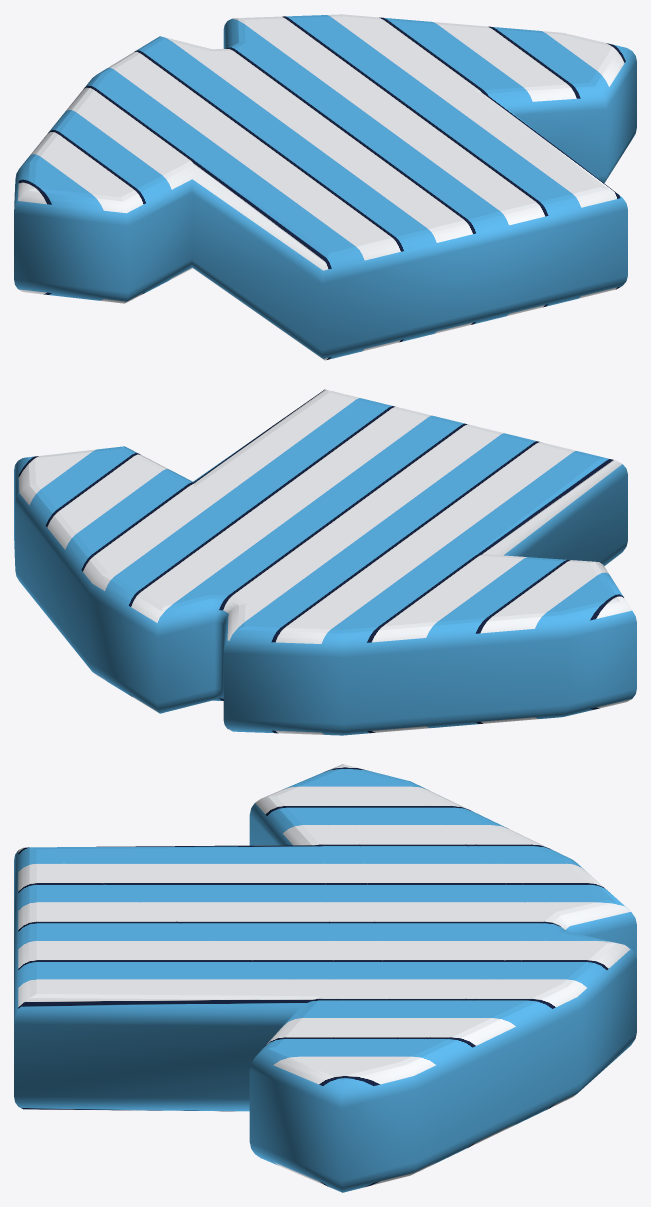
Rendered from camiseta.glb.
3 views of the same model, one above another, from view 1: azimuth 30°, elevation 25°; view 2: azimuth 150°, elevation 25°; view 3: azimuth 270°, elevation 25° (orthographic). The views are drawn at different scales.
Visible parts, largest first — view 1: camiseta; view 2: camiseta; view 3: camiseta.
Part boxes in pixels (<box>): camiseta: <box>14,14,636,360</box>; camiseta: <box>14,389,636,735</box>; camiseta: <box>14,764,636,1192</box>.
Bounding box in the file's own units: 1.38 × 0.22 × 1.09.
Materials: 1 (1 with a texture image).
